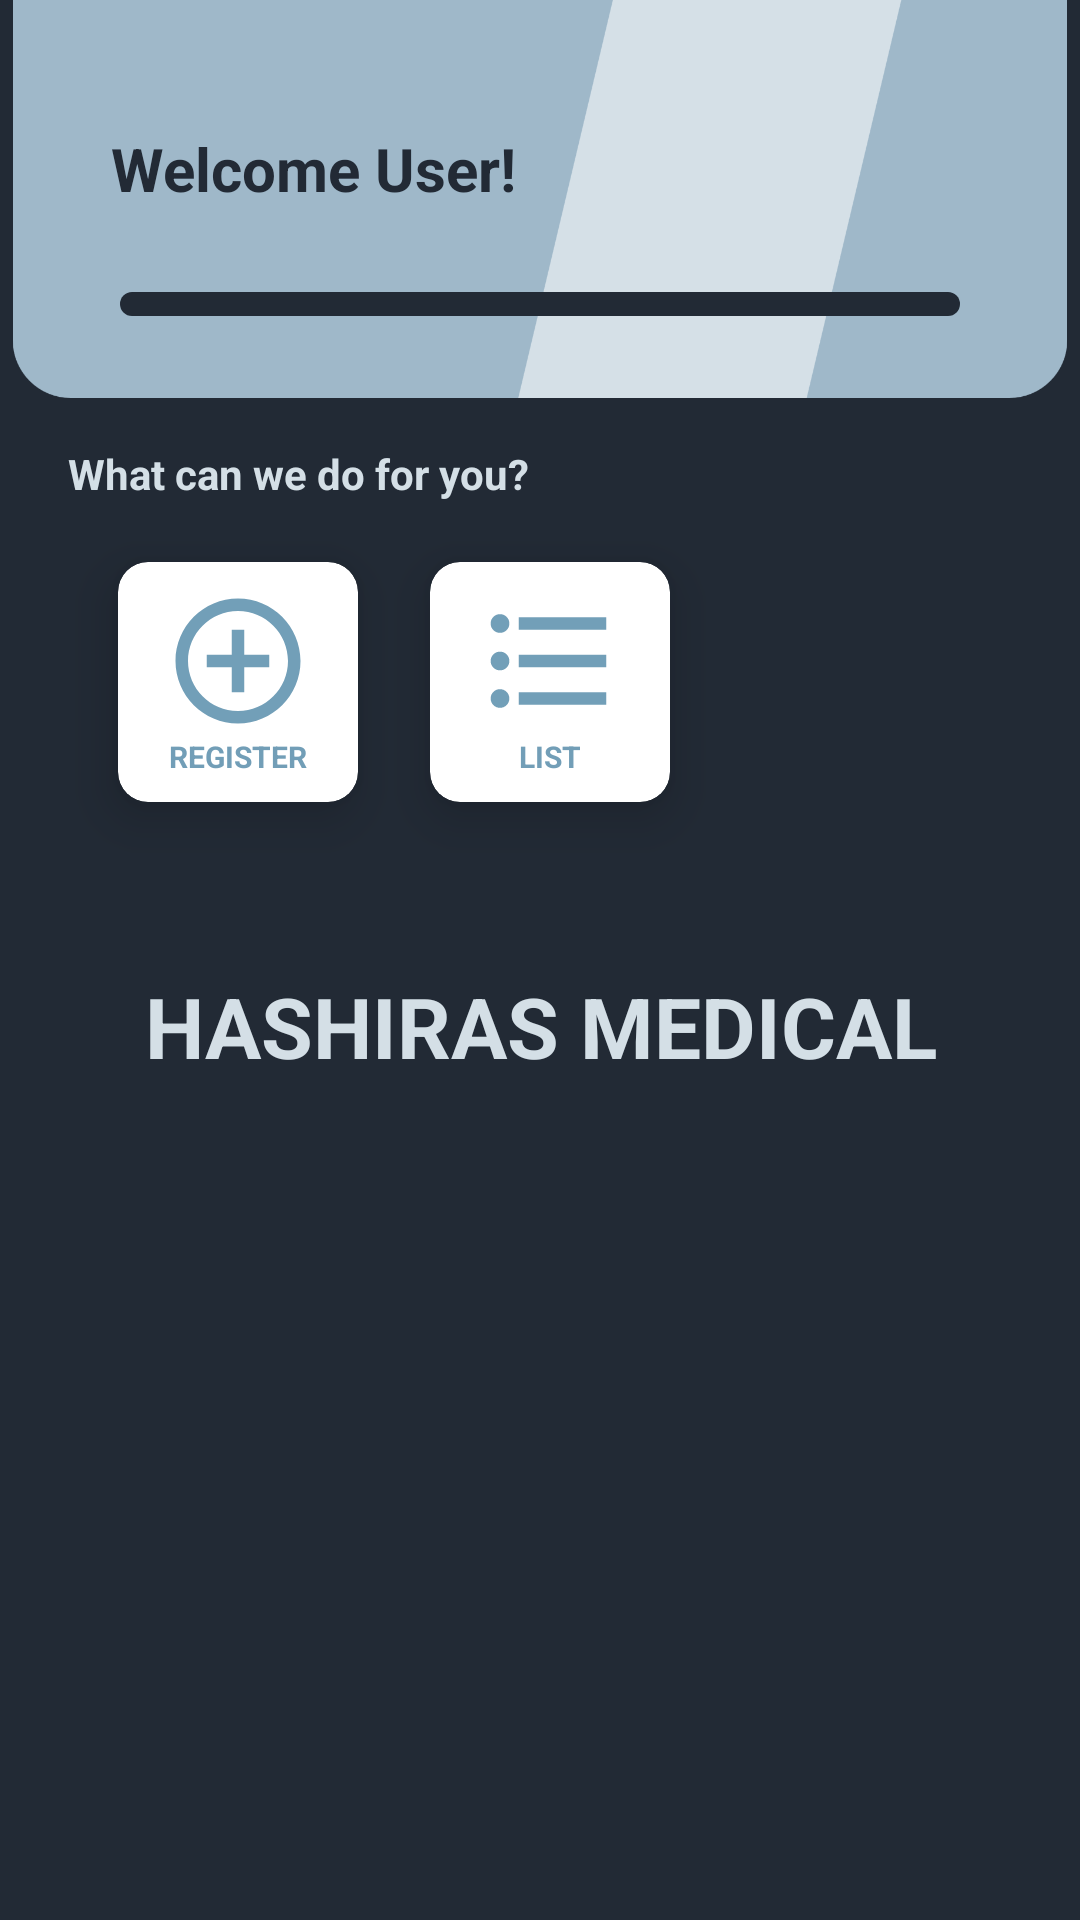

Icons on this 1080x1920 Android screen, each with its box as (x1, y1, x2, y2):
add: (175, 598, 301, 724)
